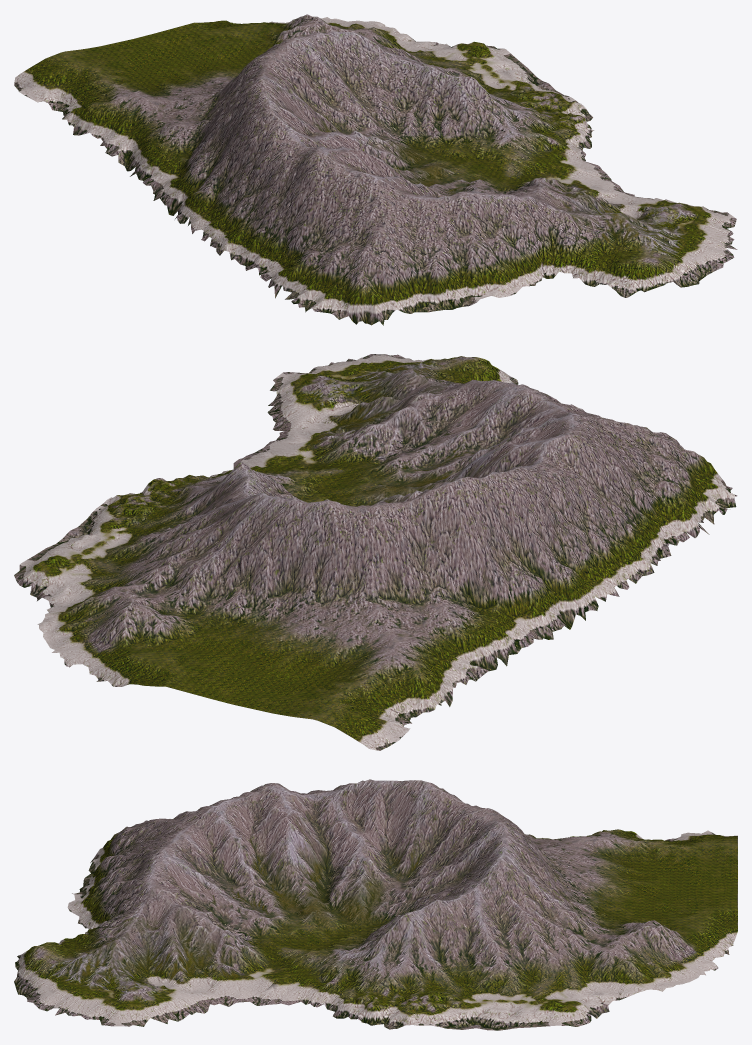
Rendered from Dhz_zsshan_01.FBX.
3 renders of one model, top to bottom at view 1: azimuth 30°, elevation 25°; view 2: azimuth 150°, elevation 25°; view 3: azimuth 270°, elevation 25°, orthographic. The views are drawn at different scales.
Parts seen in each view (by area): view 1: Dhz_zsshan_01; view 2: Dhz_zsshan_01; view 3: Dhz_zsshan_01.
Part boxes in pixels (left/top/right/bottom): Dhz_zsshan_01: left=14, top=14, right=737, bottom=325; Dhz_zsshan_01: left=14, top=354, right=737, bottom=750; Dhz_zsshan_01: left=14, top=779, right=737, bottom=1030.
Size of the model in its own units: 13.23 by 3.34 by 20.29.
